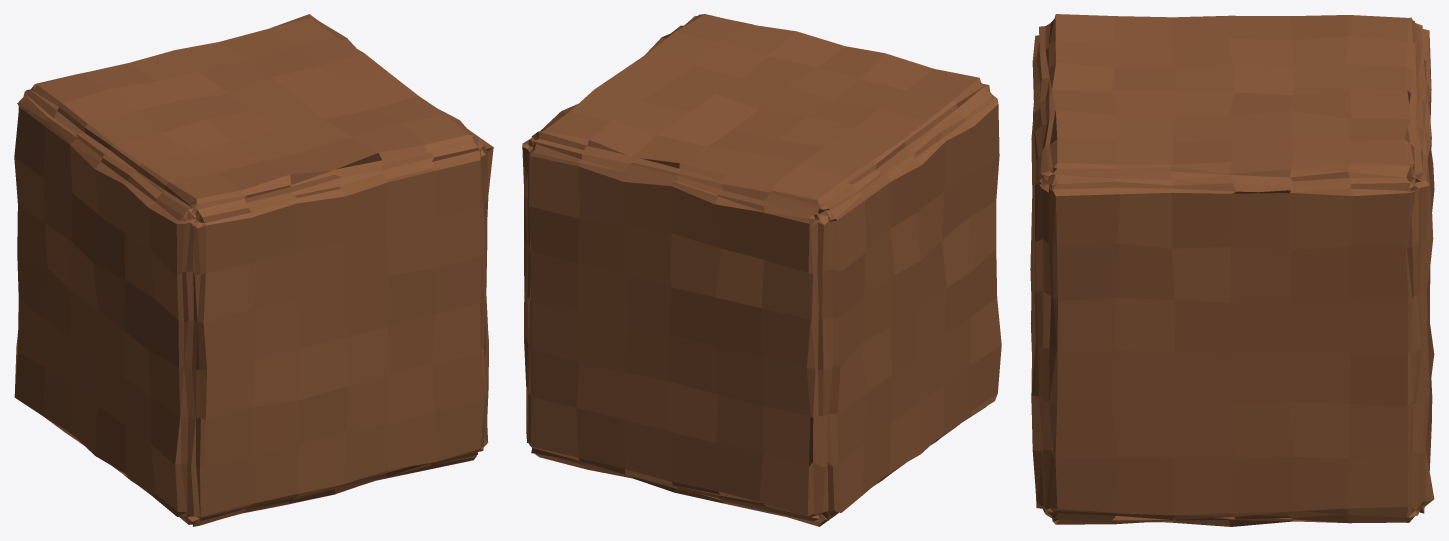
The model's file is rock2.fbx.
3 renders of one model, left to right at view 1: azimuth 30°, elevation 25°; view 2: azimuth 150°, elevation 25°; view 3: azimuth 270°, elevation 25°, orthographic. The views are drawn at different scales.
Visible parts, largest first — view 1: Cube.002; view 2: Cube.002; view 3: Cube.002.
Boxes of the visible parts, bbox=[...] form: Cube.002: bbox=[14, 14, 493, 526]; Cube.002: bbox=[522, 14, 1001, 526]; Cube.002: bbox=[1030, 14, 1434, 526].
Bounding box in the file's own units: 206 × 204 × 204.
